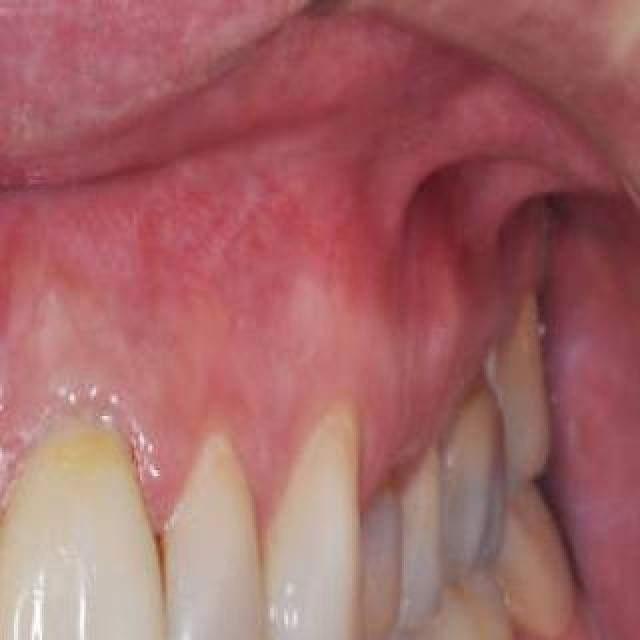plaque: (496, 542, 582, 640), (461, 328, 521, 434), (0, 526, 24, 640)
stains: (144, 514, 190, 640)
